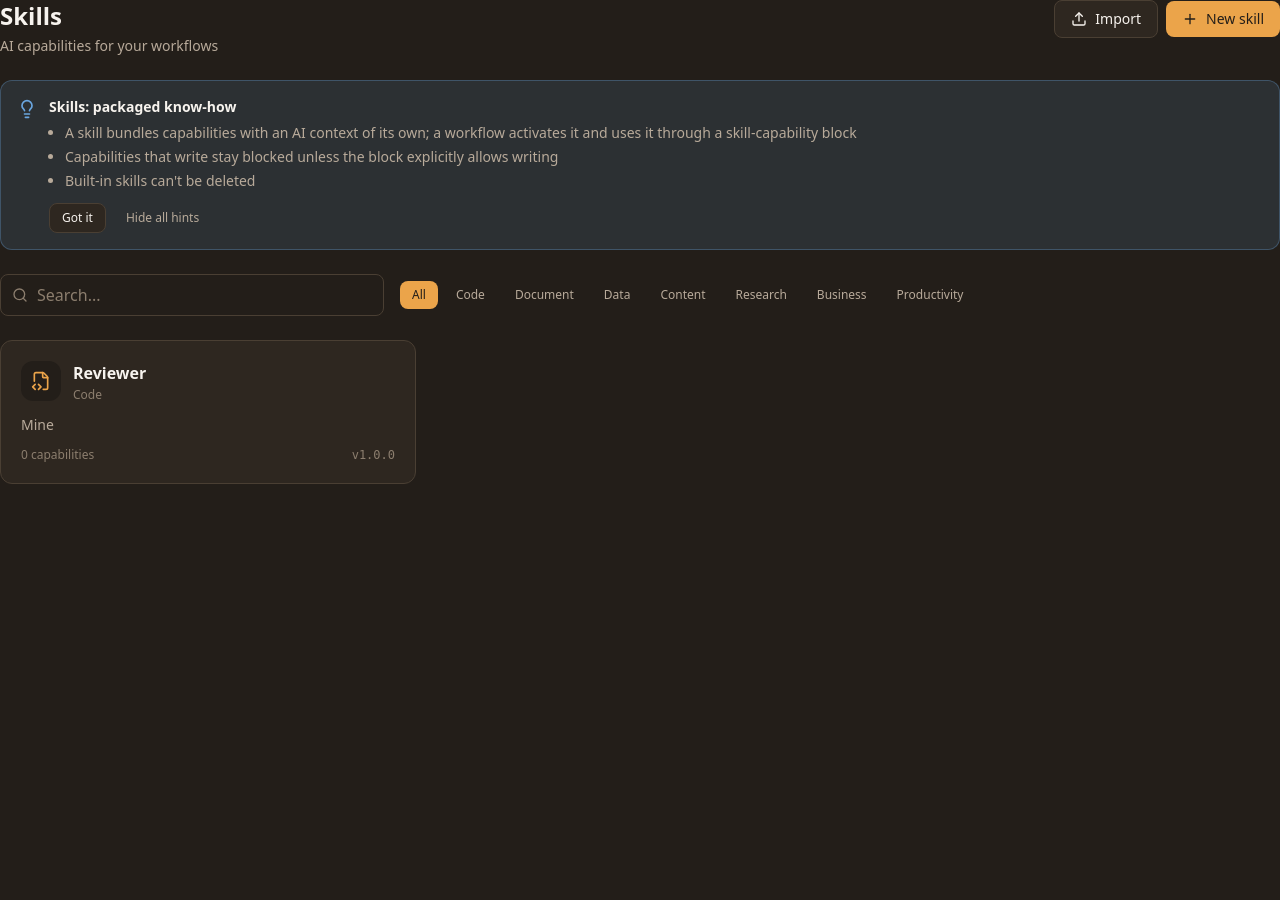
Skills page — seal lock › locks editing and deleting of a sealed skill and offers a copy
The width and height of the screenshot is (1280, 900).
Click the heading "Reviewer" at coordinates (110, 373), box [73,361,146,385]
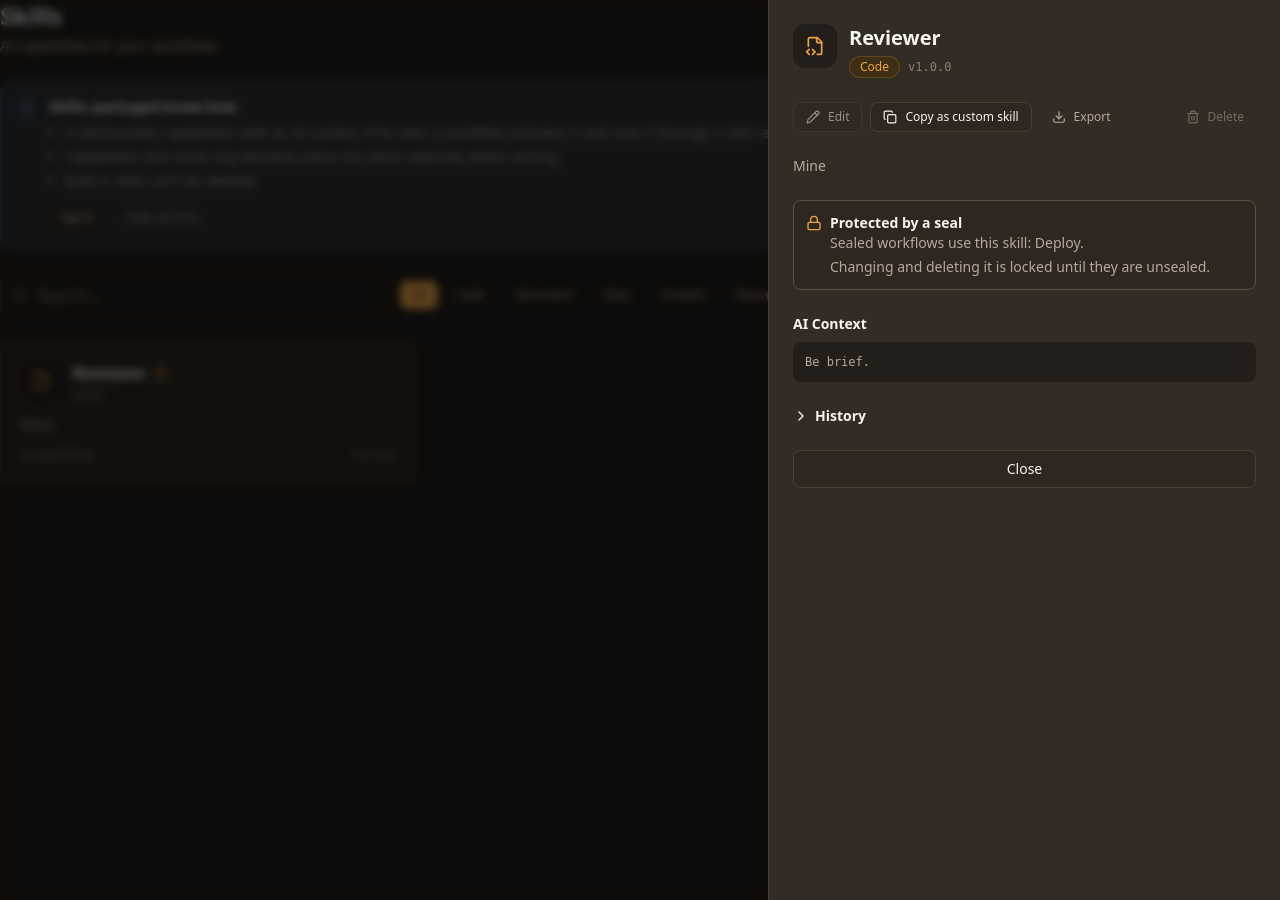
Now the button "Edit" is disabled, box [793,102,862,132]
Now the button "Delete" is disabled, box [1174,103,1256,131]
Now the button "Copy as custom skill" is enabled, box [870,102,1032,132]
